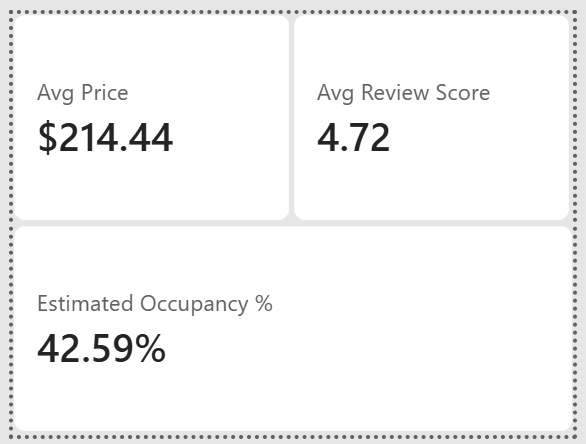

The page's visual inventory and layout, read from the dashboard file:
{"tool":"powerbi","page":{"name":"Tooltip","canvas":[400,300],"ordinal":6},"visuals":[{"type":"cardVisual","fields":{"Data":["_Measures.Avg Price"]},"box":[0,0,198,148],"z":0},{"type":"cardVisual","fields":{"Data":["_Measures.Avg Review Score"]},"box":[200,0,198,148],"z":1000},{"type":"cardVisual","fields":{"Data":["_Measures.Estimated Occupancy %"]},"box":[0,150,400,148],"z":2000}]}

Visuals, with their boxes in screenshot pixels (x1, y1, x2, y2), scaled from the page's 400x300 canvas onto the 586x444 screenshot:
cardVisual - _Measures.Avg Price: detection(0, 0, 290, 219)
cardVisual - _Measures.Avg Review Score: detection(293, 0, 583, 219)
cardVisual - _Measures.Estimated Occupancy %: detection(0, 222, 585, 441)
